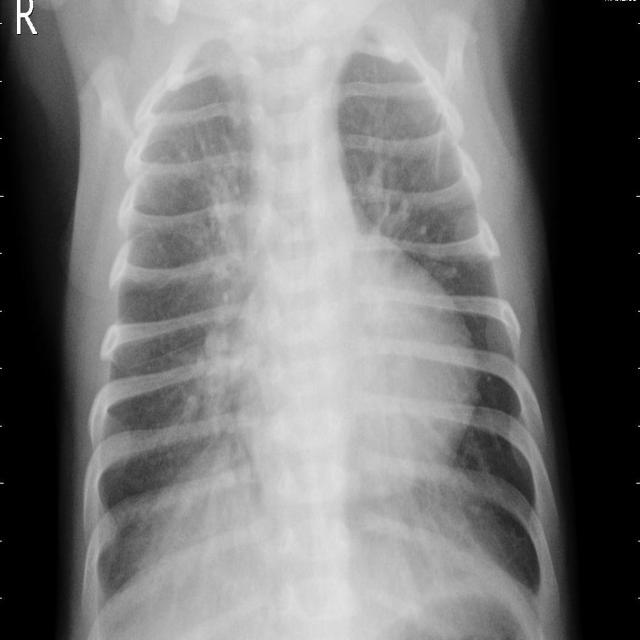high-pneumonia: (148, 331, 241, 563)
low-pneumonia: (198, 148, 244, 312)
